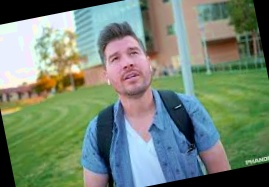earphone: (102, 69, 112, 87), (146, 55, 154, 73)
